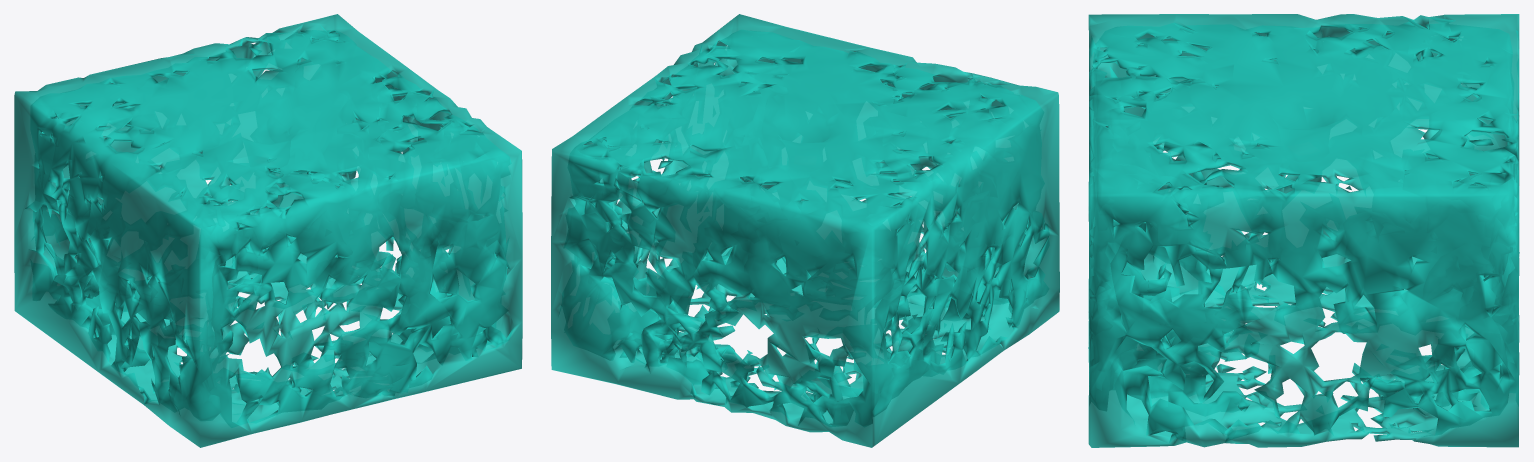
3 views of the same model, side by side, from view 1: azimuth 30°, elevation 25°; view 2: azimuth 150°, elevation 25°; view 3: azimuth 270°, elevation 25° (orthographic). The views are drawn at different scales.
Parts seen in each view (by area): view 1: Liquid_Domain; view 2: Liquid_Domain; view 3: Liquid_Domain.
Part boxes in pixels (bbox=[...]): Liquid_Domain: bbox=[14, 14, 522, 447]; Liquid_Domain: bbox=[551, 14, 1059, 447]; Liquid_Domain: bbox=[1088, 14, 1519, 447].
Size of the model in its own units: 391 by 254 by 391.
